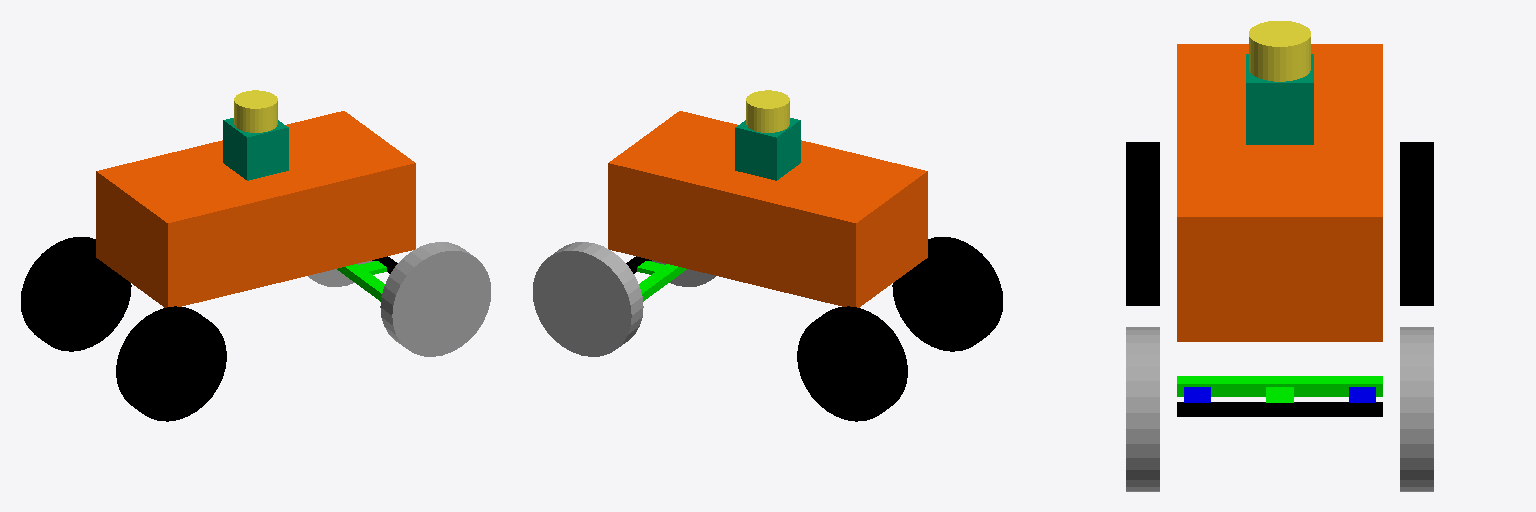
robot.urdf — navgroup:
<?xml version="1.0" ?>
<!-- =================================================================================== -->
<!-- |    This document was autogenerated by xacro from car.urdf.xacro                 | -->
<!-- |    EDITING THIS FILE BY HAND IS NOT RECOMMENDED                                 | -->
<!-- =================================================================================== -->
<robot name="navgroup" xmlns:body="http://playerstage.sourceforge.net/gazebo/xmlschema/#body" xmlns:controller="http://playerstage.sourceforge.net/gazebo/xmlschema/#controller" xmlns:gazebo="http://playerstage.sourceforge.net/gazebo/xmlschema/#gz" xmlns:geom="http://playerstage.sourceforge.net/gazebo/xmlschema/#geom" xmlns:interface="http://playerstage.sourceforge.net/gazebo/xmlschema/#interface" xmlns:joint="http://playerstage.sourceforge.net/gazebo/xmlschema/#joint" xmlns:model="http://playerstage.sourceforge.net/gazebo/xmlschema/#model" xmlns:physics="http://playerstage.sourceforge.net/gazebo/xmlschema/#physics" xmlns:rendering="http://playerstage.sourceforge.net/gazebo/xmlschema/#rendering" xmlns:sensor="http://playerstage.sourceforge.net/gazebo/xmlschema/#sensor" xmlns:xacro="http://www.ros.org/wiki/xacro">
  <!-- Physical Constant Macros -->
  <!-- Dimension Macros -->
  <!-- Physical Material Macros -->
  <!--THIS COLORS ARE ONLY FOR Rviz capital letters are respected, Gazebo have call funtctions for colors-->
  <material name="Red">
    <color rgba="1.0 0 0 1.0"/>
  </material>
  <material name="Green">
    <color rgba="0 1.0 0 1.0"/>
  </material>
  <material name="Blue">
    <color rgba="0 0 1.0 0.5"/>
  </material>
  <material name="Black">
    <color rgba="0 0 0 1.0"/>
  </material>
  <material name="Aqua">
    <color rgba="0 255 255 1.0"/>
  </material>

  <material name="Gray">
    <color rgba="0.7 0.7 0.7 1.0"/>
  </material>

  <material name="white">
    <color rgba="1.0 1.0 1.0 1.0"/>
  </material>

 <material name="orange">
    <color rgba="1 0.423529411765 0.0392156862745 1"/>
  </material>

  <!-- Main body white color structure -->
  <link name="base_link">   
    <inertial>
      <mass value="0.2"/>
      <origin xyz="0 0 0"/>
      <inertia ixx="0.2" ixy="0.0" ixz="0.0" iyy="0.2" iyz="0.0" izz="0.2"/>
    </inertial>
    <visual>
      <origin rpy="0 0 0" xyz="0 0 0"/>
      <geometry>
        <box size="0.3 0.15 0.1"/>
      </geometry>
      <material name="orange"/>
    </visual>
    <collision>
      <origin rpy="0 0 0" xyz="0 0 0"/>
      <geometry>
        <box size="0.3 0.15 0.1"/>
      </geometry>
    </collision>
  </link>
  <gazebo reference="base_link">
    <material>Gazebo/Orange</material>
  </gazebo>
  <!-- Front link of Ackermann -->
  <!-- Joins to the Car body -->
  <joint name="front_joint" type="fixed">
    <parent link="base_link"/>
    <child link="front_link"/>
    <origin xyz="0.16 0.0 -0.1"/>
  </joint>
  <link name="front_link">
    <inertial>
      <mass value="0.01"/>
      <origin xyz="0 0 0"/>
      <inertia ixx="0.01" ixy="0.0" ixz="0.0" iyy="0.01" iyz="0.0" izz="0.01"/>
    </inertial>
    <visual>
      <geometry>
        <box size="0.015 0.15 0.005"/>
      </geometry>
      <material name="Black"/>
    </visual>
    <collision>
      <geometry>
        <box size="0.015 0.15 0.005"/>
      </geometry>
    </collision>
  </link>
  <gazebo reference="front_link">
    <material>Gazebo/Black</material>
  </gazebo>
  <!-- a link aligned with the steer direction  (green) in the middle of the front_link-->
  <joint name="steer_joint" type="revolute">
    <limit effort="100" lower="-0.5" upper="0.5" velocity="10"/>
    <axis xyz="0 0 1"/>
    <parent link="front_link"/>
    <child link="steer_link"/>
    <origin rpy="0 0 0" xyz="0.0 0.0 0.0"/>
  </joint>
  <!--(green) connect with steer link the middle  in the front link-->
  <link name="steer_link">
    <inertial>
      <mass value="0.01"/>
      <origin xyz="0 0 0"/>
      <inertia ixx="0.01" ixy="0.0" ixz="0.0" iyy="0.01" iyz="0.0" izz="0.01"/>
    </inertial>
    <visual>
      <origin xyz="-0.02 0 0"/>
      <geometry>
        <box size="0.03 0.01995 0.005"/>
      </geometry>
      <material name="Green"/>
    </visual>
    <collision>
      <origin xyz="-0.02 0 0"/>
      <geometry>
        <box size="0.03 0.01995 0.005"/>
      </geometry>
    </collision>
  </link>
  <gazebo reference="steer_link">
    <material>Gazebo/Green</material>
  </gazebo>
  <!--XXXXXXXXXXXXXXXXXXXXXXXXXXXXXXXXXXXXXXXXXXXXXXXXXXXXXXXXXXXXXXXXXXXXXXXXXXXXXXXXXXXXXXXXXX-->
  <!-- the left Ackermann bar (blue)-->
  <!--JOINT -->
  <joint name="front_left_bar_joint" type="revolute">
    <limit effort="100" lower="-0.5" upper="0.5" velocity="10"/>
    <axis xyz="0 0 1"/>
    <parent link="front_link"/>
    <child link="front_left_bar_link"/>
    <origin rpy="0 0 0" xyz="0.0 0.06 0.0"/>
  </joint>
  <!--XXXXXXXXXXXXXXXXXXXXXXXXXXXXXXXXXXXXXXXXXXXXXXXXXXXXXXXXXXXXXXXXXXXXXXXXXXXXXXXXXXXXXXXXXX-->
  <link name="front_left_bar_link">
    <inertial>
      <mass value="0.01"/>
      <origin xyz="0 0 0"/>
      <inertia ixx="0.01" ixy="0.0" ixz="0.0" iyy="0.01" iyz="0.0" izz="0.01"/>
    </inertial>
    <visual>
      <origin xyz="-0.02 0 0"/>
      <geometry>
        <box size="0.03 0.01995 0.005"/>
      </geometry>
      <material name="Blue"/>
    </visual>
    <collision>
      <origin xyz="-0.02 0 0"/>
      <geometry>
        <box size="0.03 0.01995 0.005"/>
      </geometry>
    </collision>
  </link>
  <gazebo reference="front_left_bar_link">
    <material>Gazebo/Blue</material>
  </gazebo>
  <!--XXXXXXXXXXXXXXXXXXXXXXXXXXXXXXXXXXXXXXXXXXXXXXXXXXXXXXXXXXXXXXXXXXXXXXXXXXXXXXXXXXXXXXXXXX-->
  <!-- the right Ackermann bar (blue)-->
  <!--JOINT -->
  <joint name="front_right_bar_joint" type="revolute">
    <limit effort="100" lower="-0.5" upper="0.5" velocity="10"/>
    <axis xyz="0 0 1"/>
    <parent link="front_link"/>
    <child link="front_right_bar_link"/>
    <origin rpy="0 0 0" xyz="0.0 -0.06 0.0"/>
  </joint>
  <!--XXXXXXXXXXXXXXXXXXXXXXXXXXXXXXXXXXXXXXXXXXXXXXXXXXXXXXXXXXXXXXXXXXXXXXXXXXXXXXXXXXXXXXXXXX-->
  <link name="front_right_bar_link">
    <inertial>
      <mass value="0.01"/>
      <origin xyz="0 0 0"/>
      <inertia ixx="0.01" ixy="0.0" ixz="0.0" iyy="0.01" iyz="0.0" izz="0.01"/>
    </inertial>
    <visual>
      <origin xyz="-0.02 0 0"/>
      <geometry>
        <box size="0.03 0.01995 0.005"/>
      </geometry>
      <material name="Blue"/>  <!--color for RVIZ-->
    </visual>
    <collision>
      <origin xyz="-0.02 0 0"/>
      <geometry>
        <box size="0.03 0.01995 0.005"/>
      </geometry>
    </collision>
  </link>
  <gazebo reference="front_right_bar_link">
    <material>Gazebo/Blue</material>  <!--color for GAZEBO-->
  </gazebo>
  <!--XXXXXXXXXXXXXXXXXXXXXXXXXXXXXXXXXXXXXXXXXXXXXXXXXXXXXXXXXXXXXXXXXXXXXXXXXXXXXXXXXXXXXXXXXX-->
  <!-- the front left wheel -->
  <joint name="front_left_wheel_joint" type="continuous">
    <axis xyz="0 1 0"/>
    <parent link="front_left_bar_link"/>
    <child link="front_left_wheel_link"/>
    <origin rpy="0 0 0" xyz="0 0.04 0"/>
  </joint>
  <link name="front_left_wheel_link">
    <inertial>
      <mass value="0.01"/>
      <origin xyz="0 0 0"/>
      <inertia ixx="0.01" ixy="0.0" ixz="0.0" iyy="0.01" iyz="0.0" izz="0.01"/>
    </inertial>
    <visual>
      <origin rpy="1.57079632679 0 0" xyz="0 0 0"/>
      <geometry>
        <cylinder length="0.025" radius="0.06"/>
      </geometry>
      <material name="Gray"/>
    </visual>
    <collision>
      <origin rpy="1.57079632679 0 0" xyz="0 0 0"/>
      <geometry>
        <cylinder length="0.025" radius="0.06"/>
      </geometry>
    </collision>
  </link>
  <gazebo reference="front_left_wheel_link">
    <material>Gazebo/Gray</material>
  </gazebo>
  <!-- the front right wheel -->
  <joint name="front_right_wheel_joint" type="continuous">
    <axis xyz="0 1 0"/>
    <parent link="front_right_bar_link"/>
    <child link="front_right_wheel_link"/>
    <origin rpy="0 0 0" xyz="0 -0.04 0"/>
  </joint>
  <link name="front_right_wheel_link">
    <inertial>
      <mass value="0.01"/>
      <origin xyz="0 0 0"/>
      <inertia ixx="0.01" ixy="0.0" ixz="0.0" iyy="0.01" iyz="0.0" izz="0.01"/>
    </inertial>
    <visual>
      <origin rpy="1.57079632679 0 0" xyz="0 0 0"/>
      <geometry>
        <cylinder length="0.025" radius="0.06"/>
      </geometry>
      <material name="Gray"/>
    </visual>
    <collision>
      <origin rpy="1.57079632679 0 0" xyz="0 0 0"/>
      <geometry>
        <cylinder length="0.025" radius="0.06"/>
      </geometry>
    </collision>
  </link>
  <gazebo reference="front_right_wheel_link">
    <material>Gazebo/Gray</material>
    <turnGravityOff>false</turnGravityOff>
  </gazebo>
  <!-- the Ackerman bar -->
  <joint name="ackermann_joint" type="revolute">
    <limit effort="100" lower="-0.5" upper="0.5" velocity="10"/>
    <axis xyz="0 0 1"/>
    <parent link="steer_link"/>
    <child link="ackermann_bar_link"/>
    <origin rpy="0 0 0" xyz="-0.04 0 0"/>
  </joint>
  <link name="ackermann_bar_link">
    <inertial>
      <mass value="0.01"/>
      <origin xyz="0 0 0"/>
      <inertia ixx="0.01" ixy="0.0" ixz="0.0" iyy="0.01" iyz="0.0" izz="0.01"/>
    </inertial>
    <visual>
      <geometry>
        <box size="0.015 0.15 0.01"/>
      </geometry>
      <material name="Green"/>
    </visual>
    <collision>
      <geometry>
        <box size="0.015 0.15 0.01"/>
      </geometry>
    </collision>
  </link>
  <gazebo reference="front_link">
    <material>Gazebo/Green</material>
  </gazebo>
  <gazebo reference="ackermann_bar_link">
    <material>Gazebo/Blue</material>
  </gazebo>
  <!-- Gazebo Ackermann loop joints -->
  <gazebo>
    <joint:hinge name="ackermann_left_bar_joint">
      <body1>ackermann_bar_link</body1>
      <body2>front_left_bar_link</body2>
      <anchor>ackermann_bar_link</anchor>
      <axis>0 0 1</axis>
      <anchorOffset>0 0.06 0</anchorOffset>
    </joint:hinge>
  </gazebo>
  <gazebo>
    <joint:hinge name="ackermann_right_bar_joint">
      <body1>ackermann_bar_link</body1>
      <body2>front_right_bar_link</body2>
      <anchor>ackermann_bar_link</anchor>
      <axis>0 0 1</axis>
      <anchorOffset>0 -0.06 0</anchorOffset>
    </joint:hinge>
  </gazebo>
  <!-- the back left wheel -->
  <joint name="back_left_wheel_joint" type="continuous">
    <axis xyz="0 1 0"/>
    <parent link="base_link"/>
    <child link="back_left_wheel_link"/>
    <origin rpy="0 0 0" xyz="-0.16 0.1 -0.1"/>
  </joint>
  <link name="back_left_wheel_link">
    <inertial>
      <mass value="0.01"/>
      <origin xyz="0 0 0"/>
      <inertia ixx="0.01" ixy="0.0" ixz="0.0" iyy="0.01" iyz="0.0" izz="0.01"/>
    </inertial>
    <visual>
      <origin rpy="1.57079632679 0 0" xyz="0 0 0"/>
      <geometry>
        <cylinder length="0.025" radius="0.06"/>
      </geometry>
      <material name="Black"/>
    </visual>
    <collision>
      <origin rpy="1.57079632679 0 0" xyz="0 0 0"/>
      <geometry>
        <cylinder length="0.025" radius="0.06"/>
      </geometry>
    </collision>
  </link>
  <gazebo reference="back_left_wheel_link">
    <material>Gazebo/Black</material>
  </gazebo>
  <!-- the back right wheel -->
  <joint name="back_right_wheel_joint" type="continuous">
    <axis xyz="0 1 0"/>
    <parent link="base_link"/>
    <child link="back_right_wheel_link"/>
    <origin rpy="0 0 0" xyz="-0.16 -0.1 -0.1"/>
  </joint>
  <link name="back_right_wheel_link">
    <inertial>
      <mass value="0.01"/>
      <origin xyz="0 0 0"/>
      <inertia ixx="0.01" ixy="0.0" ixz="0.0" iyy="0.01" iyz="0.0" izz="0.01"/>
    </inertial>
    <visual>
      <origin rpy="1.57079632679 0 0" xyz="0 0 0"/>
      <geometry>
        <cylinder length="0.025" radius="0.06"/>
      </geometry>
      <material name="Black"/>
    </visual>
    <collision>
      <origin rpy="1.57079632679 0 0" xyz="0 0 0"/>
      <geometry>
        <cylinder length="0.025" radius="0.06"/>
      </geometry>
    </collision>
  </link>
  <gazebo reference="back_right_wheel_link">
    <material>Gazebo/Black</material>
  </gazebo>
  <!-- Ackermann plugin -->
  <gazebo>
    <controller:ackermann_plugin name="ackermann_controller" plugin="libackermann_plugin.so">
      <alwaysOn>true</alwaysOn>
      <update>100</update>
      <updateRate>100.0</updateRate>
      <leftJoint>back_left_wheel_joint</leftJoint>
      <rightJoint>back_right_wheel_joint</rightJoint>
      <steerJoint>steer_joint</steerJoint>
      <wheelSeparationWidth>0.16</wheelSeparationWidth>
      <wheelSeparationLength>0.32</wheelSeparationLength>
      <wheelDiameter>0.041</wheelDiameter>
      <driveTorque>5</driveTorque>
      <steerTorque>5</steerTorque>
      <interface:position name="position_iface_0"/>
      <robotNamespace>/</robotNamespace>
      <topicName>pilot/drive</topicName>
    </controller:ackermann_plugin>
    <canonicalBody>base_footprint</canonicalBody>
    <!-- this publishes empty joint_states due to no transmission, but
    triggering robot_state_publisher to publish tf between fixed joints in erratic,
    (e.g. base_laser_link for the base_scan frame) -->
    <controller:gazebo_ros_controller_manager name="gazebo_ros_controller_manager" plugin="libgazebo_ros_controller_manager.so">
      <alwaysOn>true</alwaysOn>
      <updateRate>100.0</updateRate>
      <interface:audio name="gazebo_ros_controller_manager_dummy_iface"/>
    </controller:gazebo_ros_controller_manager>
  </gazebo>
  <joint name="laser_base_mount_joint" type="fixed">
    <origin rpy="0 0 0" xyz="0 0 0.05"/>
    <parent link="base_link"/>
    <child link="laser_base_link"/>
  </joint>
  <link name="laser_base_link" type="fixed">
    <inertial>
      <mass value="0.1"/>
      <origin xyz="0 0 0.0"/>
      <inertia ixx="0.1" ixy="0" ixz="0" iyy="0.1" iyz="0" izz="0.1"/>
    </inertial>
    <visual>
      <origin rpy="0 0 0" xyz="0 0 0.025"/>
      <geometry>
        <box size="0.05 0.05 0.05"/>
      </geometry>
    </visual>
    <collision>
      <origin rpy="0 0 0" xyz="0 0 0.025"/>
      <geometry>
        <box size="0.05 0.05 0.05"/>
      </geometry>
    </collision>
  </link>
  <joint name="base_scan_joint" type="fixed">
    <origin rpy="0 0 0" xyz="0 0 0.05"/>
    <parent link="laser_base_link"/>
    <child link="base_scan_link"/>
  </joint>
  <link name="base_scan_link" type="laser">
    <inertial>
      <mass value="0.1"/>
      <origin xyz="0 0 0.0"/>
      <inertia ixx="0.1" ixy="0" ixz="0" iyy="0.1" iyz="0" izz="0.1"/>
    </inertial>
    <visual>
      <origin rpy="0 0 0" xyz="0 0 0.014"/>
      <geometry>
        <cylinder length="0.028" radius="0.0229"/>
      </geometry>
    </visual>
    <collision>
      <origin rpy="0 0 0" xyz="0 0 0.014"/>
      <geometry>
        <cylinder length="0.028" radius="0.0229"/>
      </geometry>
    </collision>
  </link>
  <gazebo reference="base_scan_link">
    <sensor:ray name="laser">
      <rayCount>683</rayCount>
      <rangeCount>683</rangeCount>
      <laserCount>1</laserCount>
      <origin>0.0 0.0 0.0</origin>
      <displayRays>false</displayRays>
      <minAngle>-135</minAngle>
      <maxAngle> 135</maxAngle>
      <minRange>0.06</minRange>
      <maxRange>4.0</maxRange>
      <resRange>0.001</resRange>
      <updateRate>10.0</updateRate>
      <controller:gazebo_ros_laser name="gazebo_ros_base_scan_link_controller" plugin="libgazebo_ros_laser.so">
        <gaussianNoise>0.005</gaussianNoise>
        <alwaysOn>true</alwaysOn>
        <updateRate>10.0</updateRate>
        <topicName>base_scan/scan</topicName>
        <frameName>base_scan_link</frameName>
        <interface:laser name="gazebo_ros_base_scan_link_iface"/>
      </controller:gazebo_ros_laser>
    </sensor:ray>
  </gazebo>
  <gazebo reference="laser_base_link">
    <material>Gazebo/Black</material>
  </gazebo>
  <gazebo reference="base_scan_link">
    <material>Gazebo/Black</material>
  </gazebo>
</robot>

--- What the picture shows (computed from the rendered views, not written in the file) ---
The picture shows the robot from 3 angles, left to right: view 1: azimuth 30°, elevation 25°; view 2: azimuth 150°, elevation 25°; view 3: azimuth 270°, elevation 25°; orthographic projection.
Robot: navgroup — 12 links, 11 joints (4 revolute, 4 continuous, 3 fixed); root link base_link; default pose: every joint at zero.
Visible links, largest first — view 1: base_link, front_right_wheel_link, back_right_wheel_link, back_left_wheel_link, laser_base_link, base_scan_link, ackermann_bar_link, front_left_wheel_link; view 2: base_link, front_left_wheel_link, back_left_wheel_link, back_right_wheel_link, laser_base_link, base_scan_link, ackermann_bar_link, front_right_wheel_link; view 3: base_link, front_left_wheel_link, front_right_wheel_link, back_left_wheel_link, back_right_wheel_link, laser_base_link, ackermann_bar_link, base_scan_link, front_link.
Boxes of the visible links, x1,y1,x2,y2 form: base_link: (96,111,415,307); front_right_wheel_link: (380,242,490,356); back_right_wheel_link: (116,306,226,421); back_left_wheel_link: (21,237,131,351); laser_base_link: (223,118,288,180); base_scan_link: (234,90,277,132); ackermann_bar_link: (337,264,384,301); front_left_wheel_link: (308,260,372,286); base_link: (608,111,927,307); front_left_wheel_link: (533,242,643,356); back_left_wheel_link: (797,306,907,421); back_right_wheel_link: (892,237,1002,351); laser_base_link: (735,118,800,180); base_scan_link: (746,90,789,132); ackermann_bar_link: (639,264,686,301); front_right_wheel_link: (651,260,715,286); base_link: (1177,44,1382,341); front_left_wheel_link: (1400,327,1433,491); front_right_wheel_link: (1126,327,1159,491); back_left_wheel_link: (1400,142,1433,305); back_right_wheel_link: (1126,142,1159,305); laser_base_link: (1246,54,1313,144); ackermann_bar_link: (1177,376,1382,396); base_scan_link: (1249,21,1310,81); front_link: (1177,402,1382,416).
Bounding box of the posed robot: 0.44 × 0.225 × 0.288 m (x, y, z).
Geometry: primitives only (box / cylinder / sphere), no mesh files.
